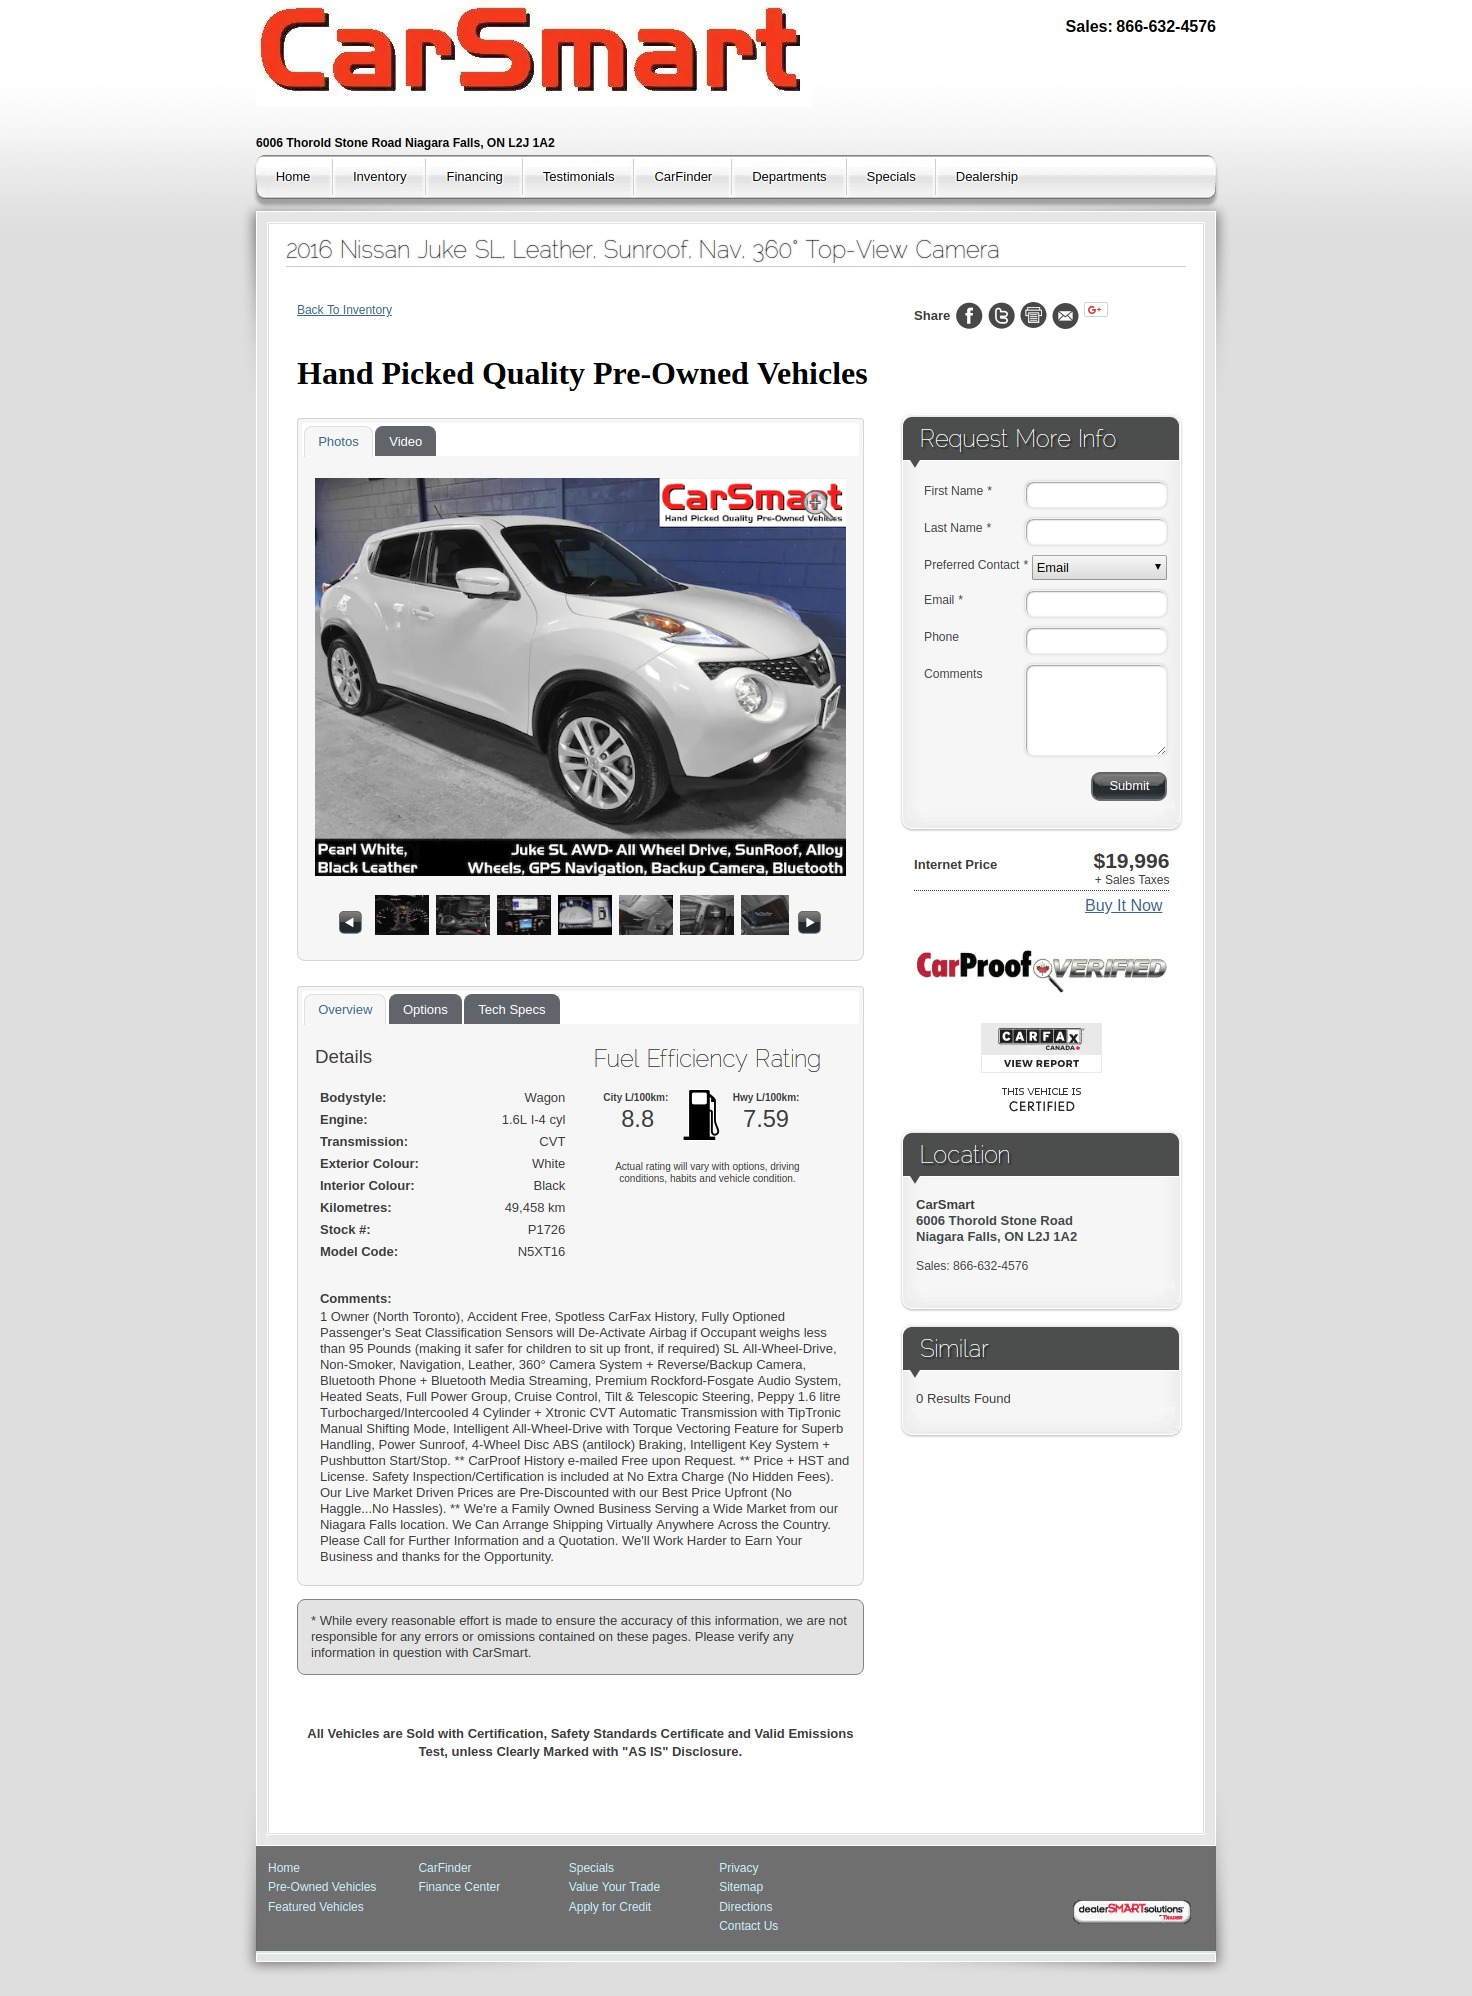car: (798, 910, 823, 934)
